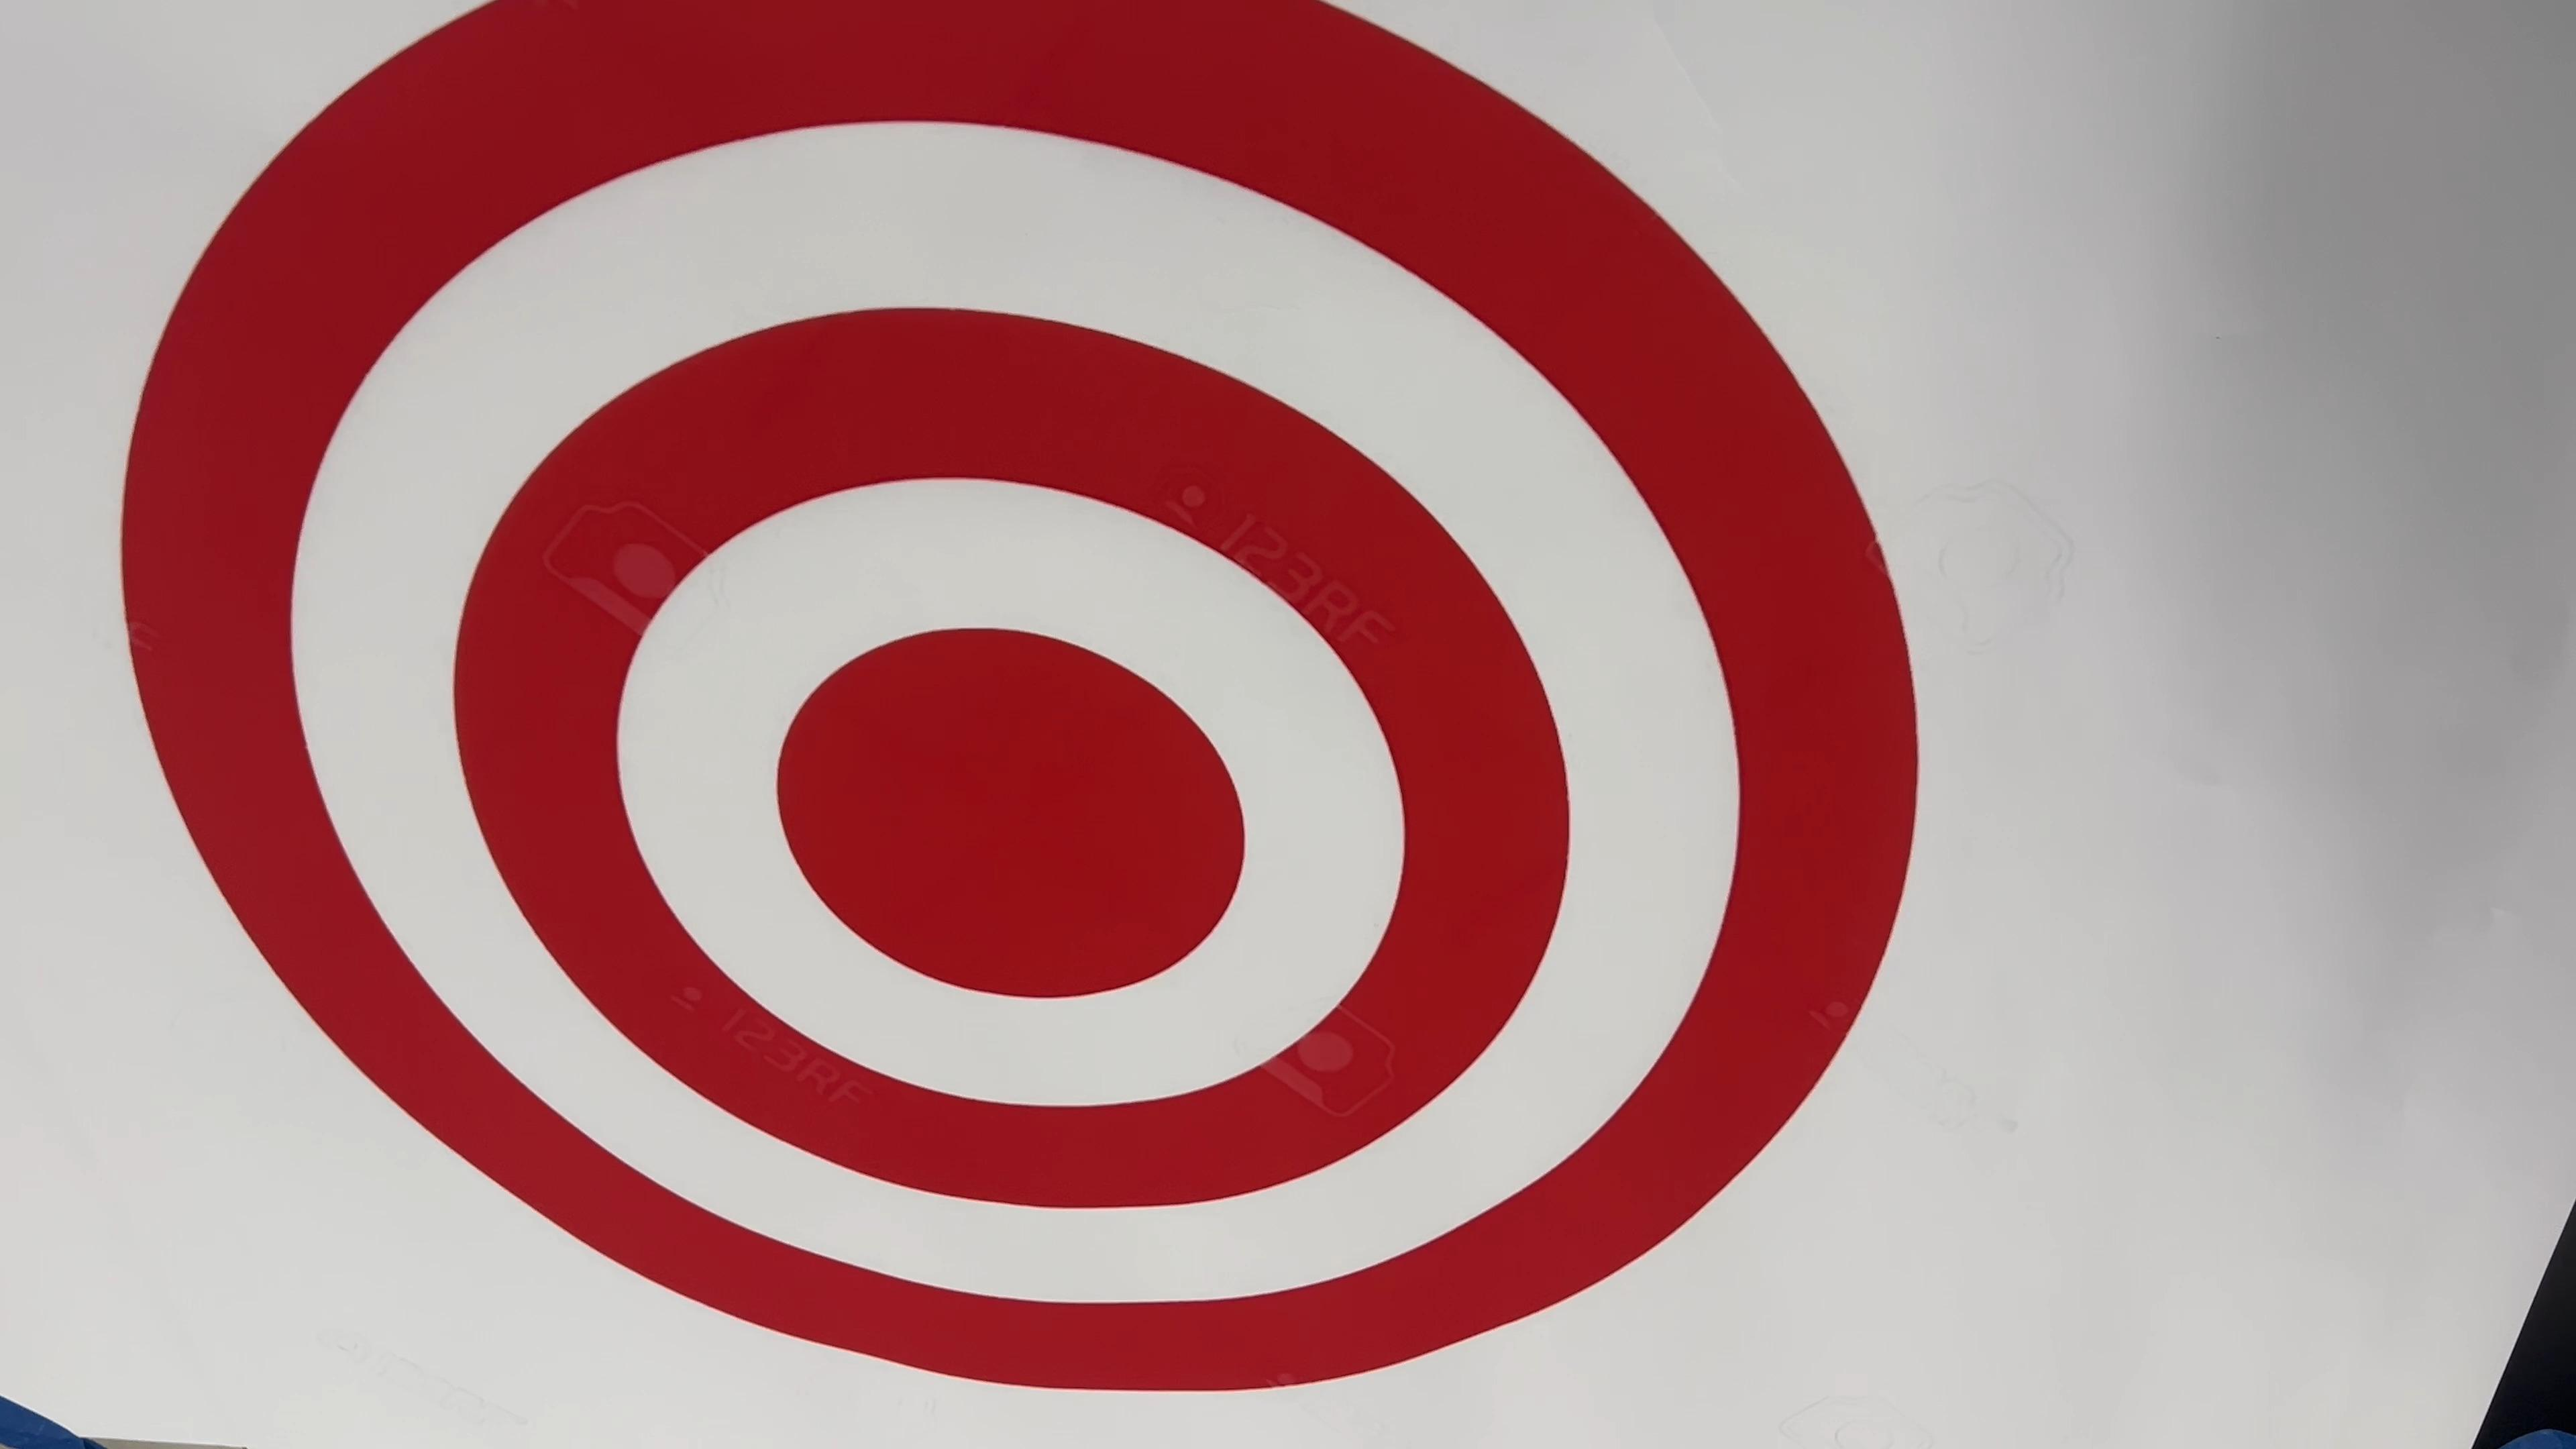target_red: (74, 0, 2036, 1410)
